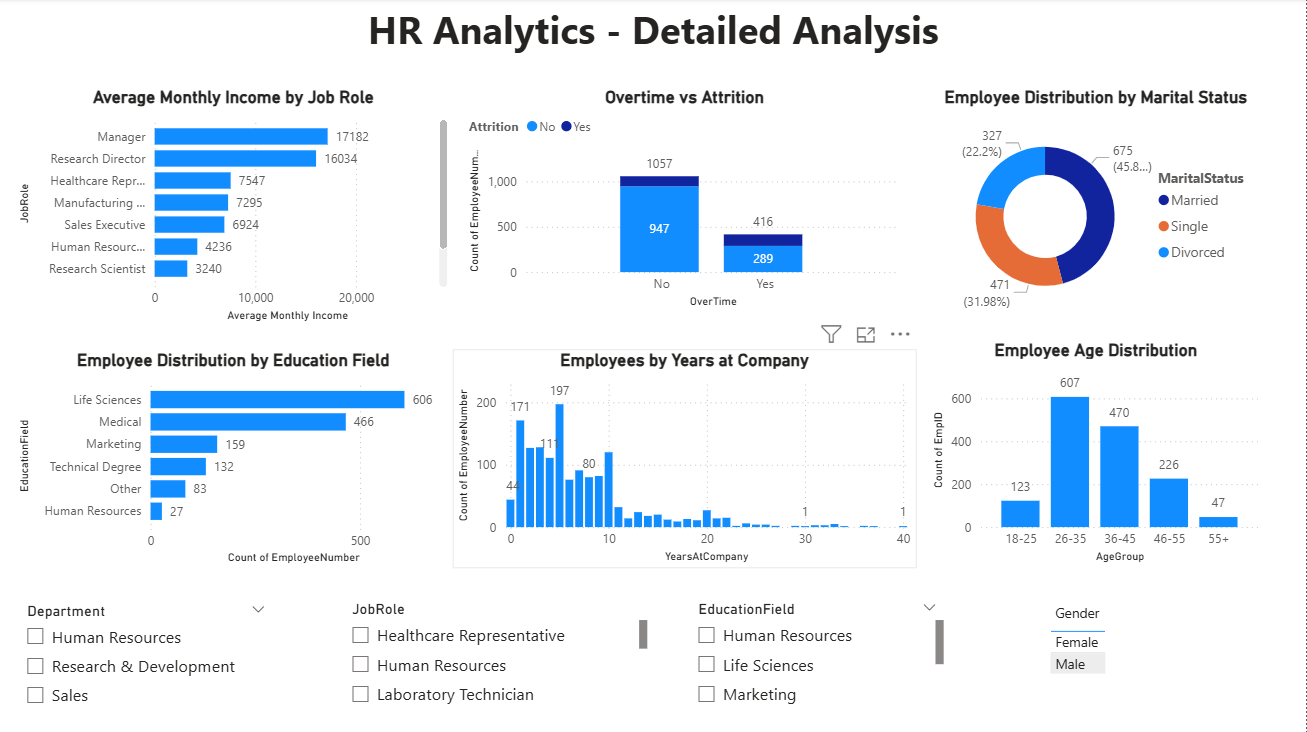

This screenshot's page, from the dashboard's own definition file:
{"tool":"powerbi","page":{"name":"Detailed Analysis","canvas":[1280,720],"ordinal":1},"visuals":[{"type":"textbox","box":[314.3,0,651.8,70.9],"z":0},{"type":"clusteredBarChart","title":"Average Monthly Income by Job Role","fields":{"Category":["HR_Analytics_Cleaned.JobRole"],"Y":["HR_Analytics_Cleaned.Average Income"]},"box":[14.7,86.8,429.2,234.8],"z":1000},{"type":"clusteredBarChart","title":"Employee Distribution by Education Field","fields":{"Category":["HR_Analytics_Cleaned.EducationField"],"Y":["CountNonNull(HR_Analytics_Cleaned.EmployeeNumber)"]},"box":[14.7,343.6,429.2,215.2],"z":2000},{"type":"columnChart","title":"Overtime vs Attrition","fields":{"Category":["HR_Analytics_Cleaned.OverTime"],"Y":["CountNonNull(HR_Analytics_Cleaned.EmployeeNumber)"],"Series":["HR_Analytics_Cleaned.Attrition"]},"box":[454.9,86.8,431.7,221.3],"z":3000},{"type":"clusteredColumnChart","title":"Employee Age Distribution","fields":{"Y":["CountNonNull(HR_Analytics_Cleaned.EmpID)"],"Category":["HR_Analytics_Cleaned.AgeGroup"]},"box":[908.6,333.8,328.9,223.8],"z":4000},{"type":"donutChart","title":"Employee Distribution by Marital Status","fields":{"Category":["HR_Analytics_Cleaned.MaritalStatus"],"Y":["CountNonNull(HR_Analytics_Cleaned.EmployeeNumber)"]},"box":[908.6,86.8,328.9,234.8],"z":5000},{"type":"clusteredColumnChart","title":"Employees by Years at Company","fields":{"Category":["HR_Analytics_Cleaned.YearsAtCompany"],"Y":["CountNonNull(HR_Analytics_Cleaned.EmployeeNumber)"]},"box":[443.9,343.6,453.7,214],"z":6000},{"type":"slicer","fields":{"Values":["HR_Analytics_Cleaned.Department"]},"box":[14.7,585.7,258,119.8],"z":7000},{"type":"slicer","fields":{"Values":["HR_Analytics_Cleaned.JobRole"]},"box":[332.6,584.5,306.9,114.9],"z":8000},{"type":"slicer","fields":{"Values":["HR_Analytics_Cleaned.EducationField"]},"box":[671.3,584.5,258,116.2],"z":9000},{"type":"tableEx","fields":{"Values":["HR_Analytics_Cleaned.Gender"]},"box":[1022.3,585.7,215.2,113.7],"z":10000}]}

Visuals, with their boxes in screenshot pixels (x1, y1, x2, y2), scaled from the page's 1280x720 canvas onto the 1307x732 screenshot:
textbox: [left=321, top=0, right=986, bottom=72]
"Average Monthly Income by Job Role" clusteredBarChart: [left=15, top=88, right=453, bottom=327]
"Employee Distribution by Education Field" clusteredBarChart: [left=15, top=349, right=453, bottom=568]
"Overtime vs Attrition" columnChart: [left=464, top=88, right=905, bottom=313]
"Employee Age Distribution" clusteredColumnChart: [left=928, top=339, right=1264, bottom=567]
"Employee Distribution by Marital Status" donutChart: [left=928, top=88, right=1264, bottom=327]
"Employees by Years at Company" clusteredColumnChart: [left=453, top=349, right=917, bottom=567]
slicer - HR_Analytics_Cleaned.Department: [left=15, top=595, right=278, bottom=717]
slicer - HR_Analytics_Cleaned.JobRole: [left=340, top=594, right=653, bottom=711]
slicer - HR_Analytics_Cleaned.EducationField: [left=685, top=594, right=949, bottom=712]
tableEx - HR_Analytics_Cleaned.Gender: [left=1044, top=595, right=1264, bottom=711]
